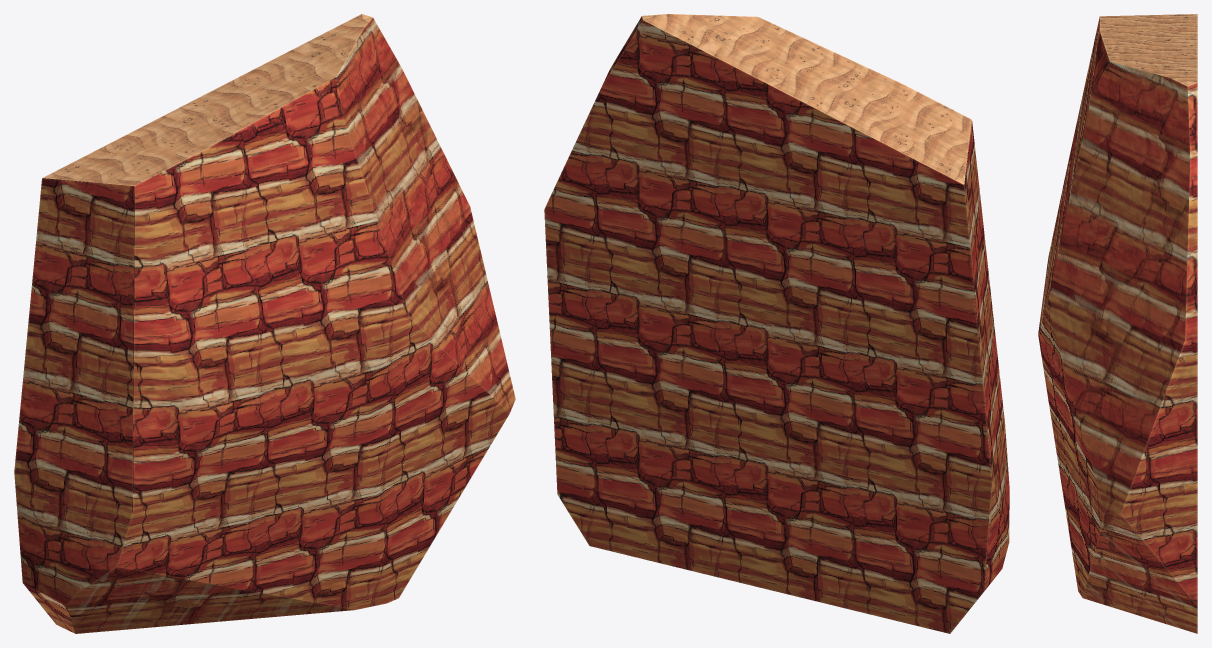
The model's file is v4_cliff_e_00.glb.
3 views of the same model, side by side, from view 1: azimuth 30°, elevation 25°; view 2: azimuth 150°, elevation 25°; view 3: azimuth 270°, elevation 25° (orthographic). The views are drawn at different scales.
Parts seen in each view (by area): view 1: v4_cliff_e_00; view 2: v4_cliff_e_00; view 3: v4_cliff_e_00.
Part boxes in pixels (left/top/right/bottom): v4_cliff_e_00: left=14, top=14, right=515, bottom=633; v4_cliff_e_00: left=544, top=14, right=1009, bottom=633; v4_cliff_e_00: left=1038, top=14, right=1197, bottom=633.
Size of the model in its own units: 7.22 by 8 by 2.2.
1 material, 1 textured.
